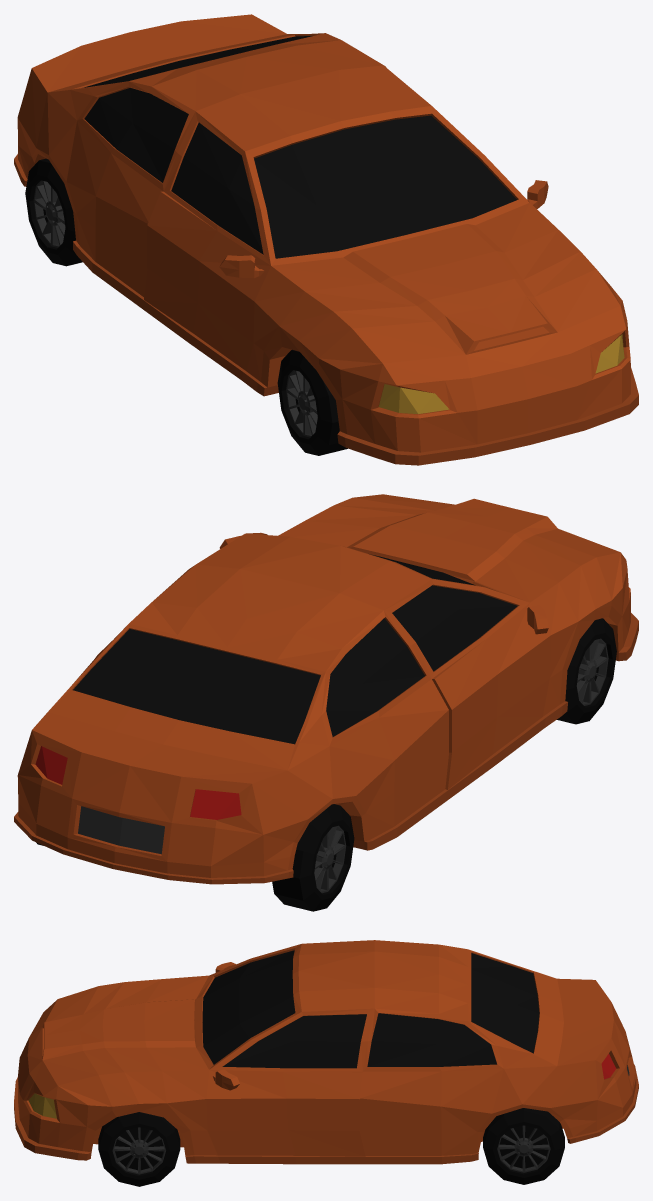
File: SportsCar.obj
3 renders of one model, top to bottom at view 1: azimuth 30°, elevation 25°; view 2: azimuth 150°, elevation 25°; view 3: azimuth 270°, elevation 25°, orthographic. The views are drawn at different scales.
Parts seen in each view (by area): view 1: SportsCar_Cube.005, SportsCar_FrontRightWheel_Cylinder.014, SportsCar_BackWheels_Cylinder.004; view 2: SportsCar_Cube.005, SportsCar_BackWheels_Cylinder.004, SportsCar_FrontRightWheel_Cylinder.014; view 3: SportsCar_Cube.005, SportsCar_BackWheels_Cylinder.004, SportsCar_FrontLeftWheel_Cylinder.013.
Boxes of the visible parts, bbox=[...] form: SportsCar_Cube.005: bbox=[14, 14, 638, 465]; SportsCar_FrontRightWheel_Cylinder.014: bbox=[277, 349, 347, 455]; SportsCar_BackWheels_Cylinder.004: bbox=[25, 158, 82, 266]; SportsCar_Cube.005: bbox=[14, 494, 638, 884]; SportsCar_BackWheels_Cylinder.004: bbox=[36, 804, 354, 911]; SportsCar_FrontRightWheel_Cylinder.014: bbox=[557, 618, 616, 724]; SportsCar_Cube.005: bbox=[14, 940, 638, 1164]; SportsCar_BackWheels_Cylinder.004: bbox=[483, 1108, 564, 1184]; SportsCar_FrontLeftWheel_Cylinder.013: bbox=[98, 1112, 180, 1186].
Size of the model in its own units: 1.8 by 1.15 by 3.97.
